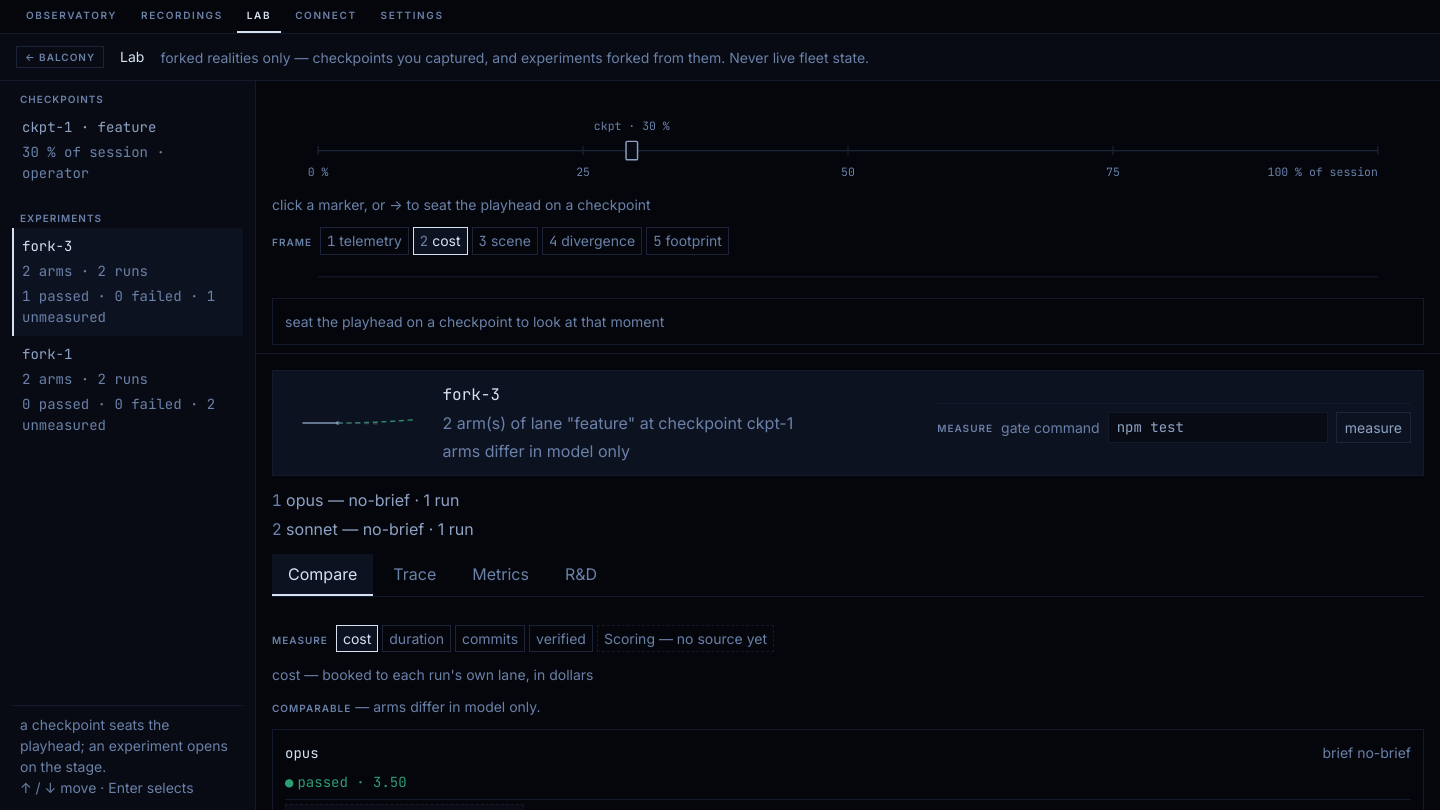
Test: the Trace control is reachable from the frame divergence position as well as the tab (prd-55 ruling 8) › opening another experiment closes the trace — a divergence figure never outlives the run it was read from
The width and height of the screenshot is (1440, 810).
Expected: the element with test id "lab-experiment-fork-3" is shown, [272,370,1424,809]
Click the tab with test id "lab-tab-Trace" at (415, 575), box [377,554,452,596]
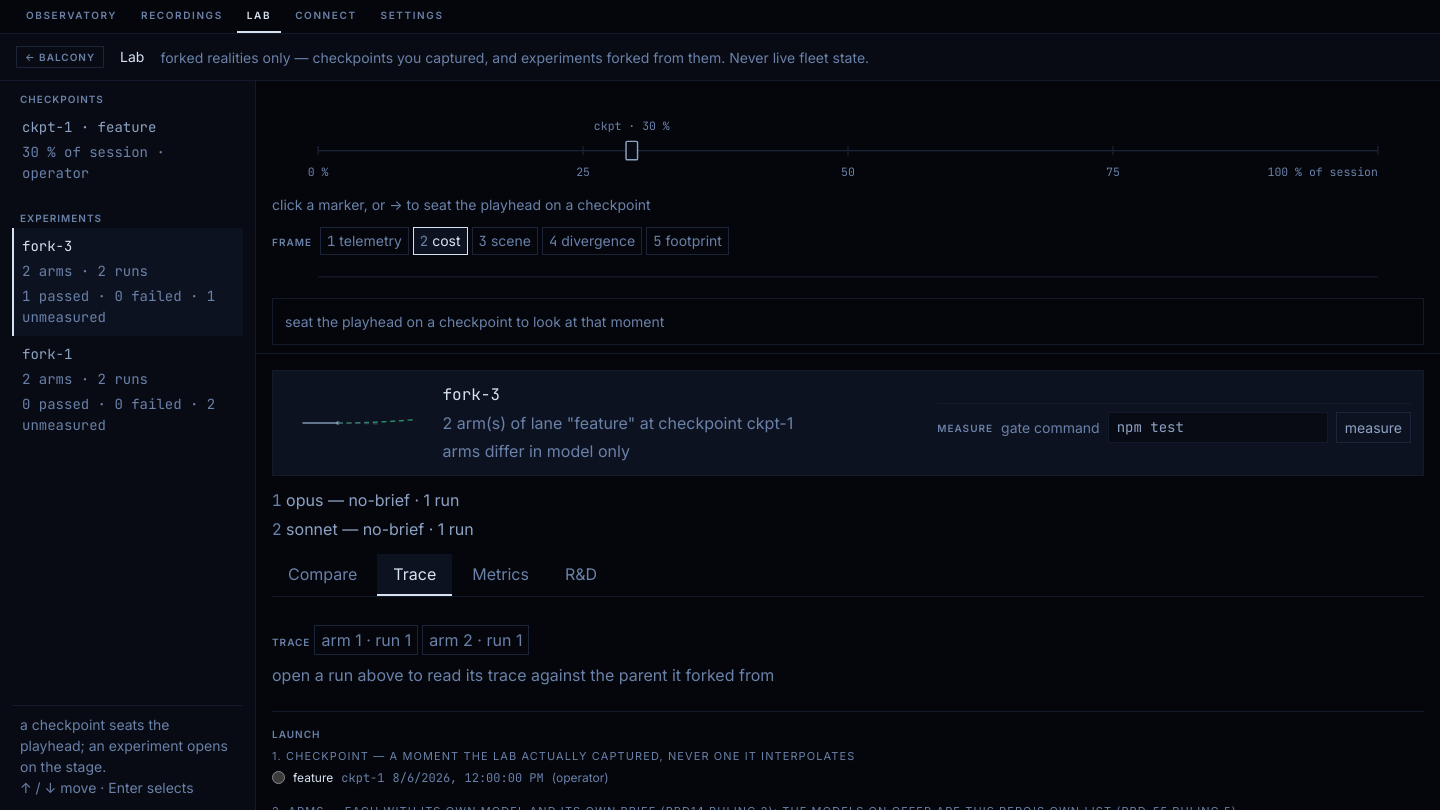
Click the button with test id "lab-trace-open-fork-3-arm-1" at (366, 640), box [314,625,418,655]
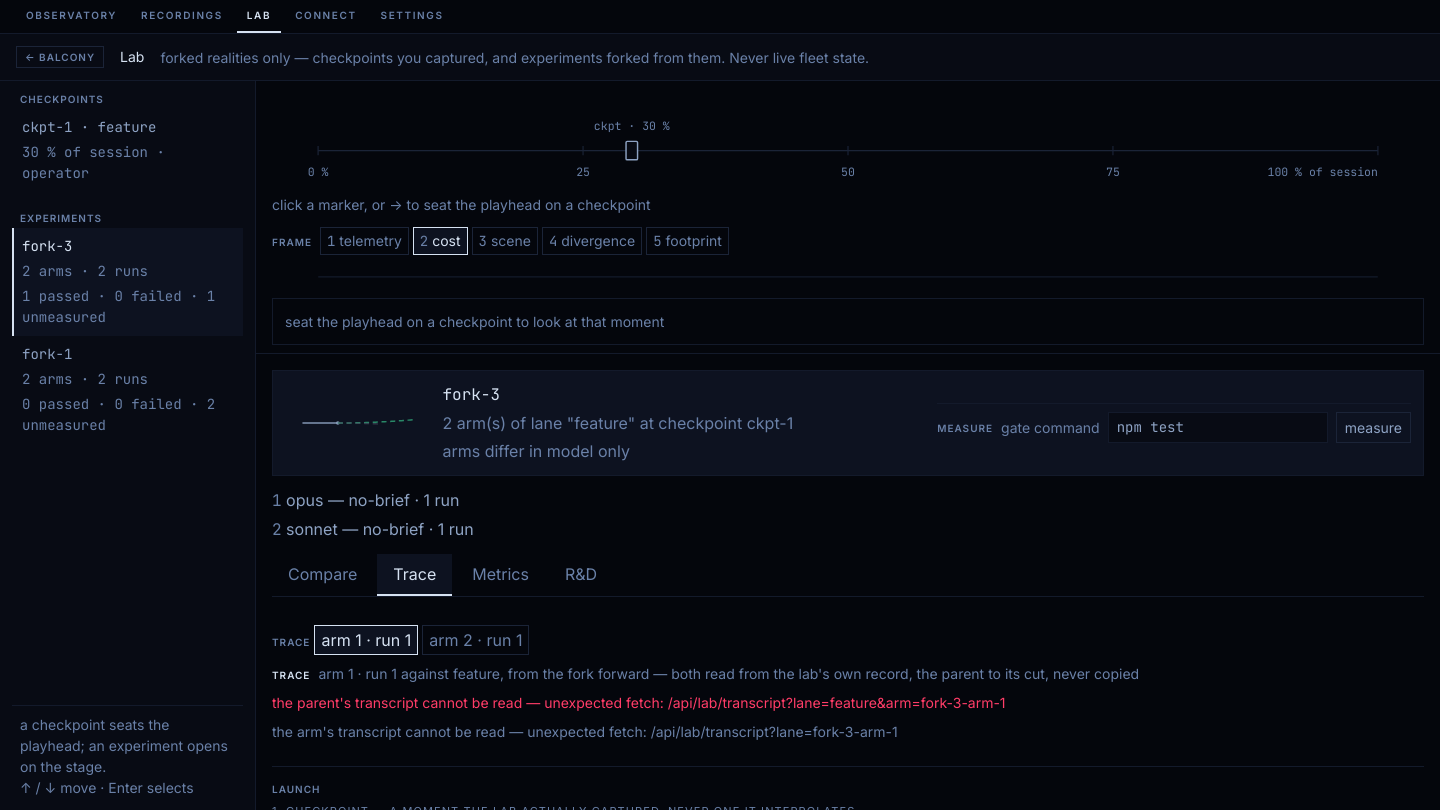
Result: the text with test id "lab-trace-none-open" is gone
Click the button with test id "lab-experiment-row-fork-1" at (128, 390), box [12,336,243,444]
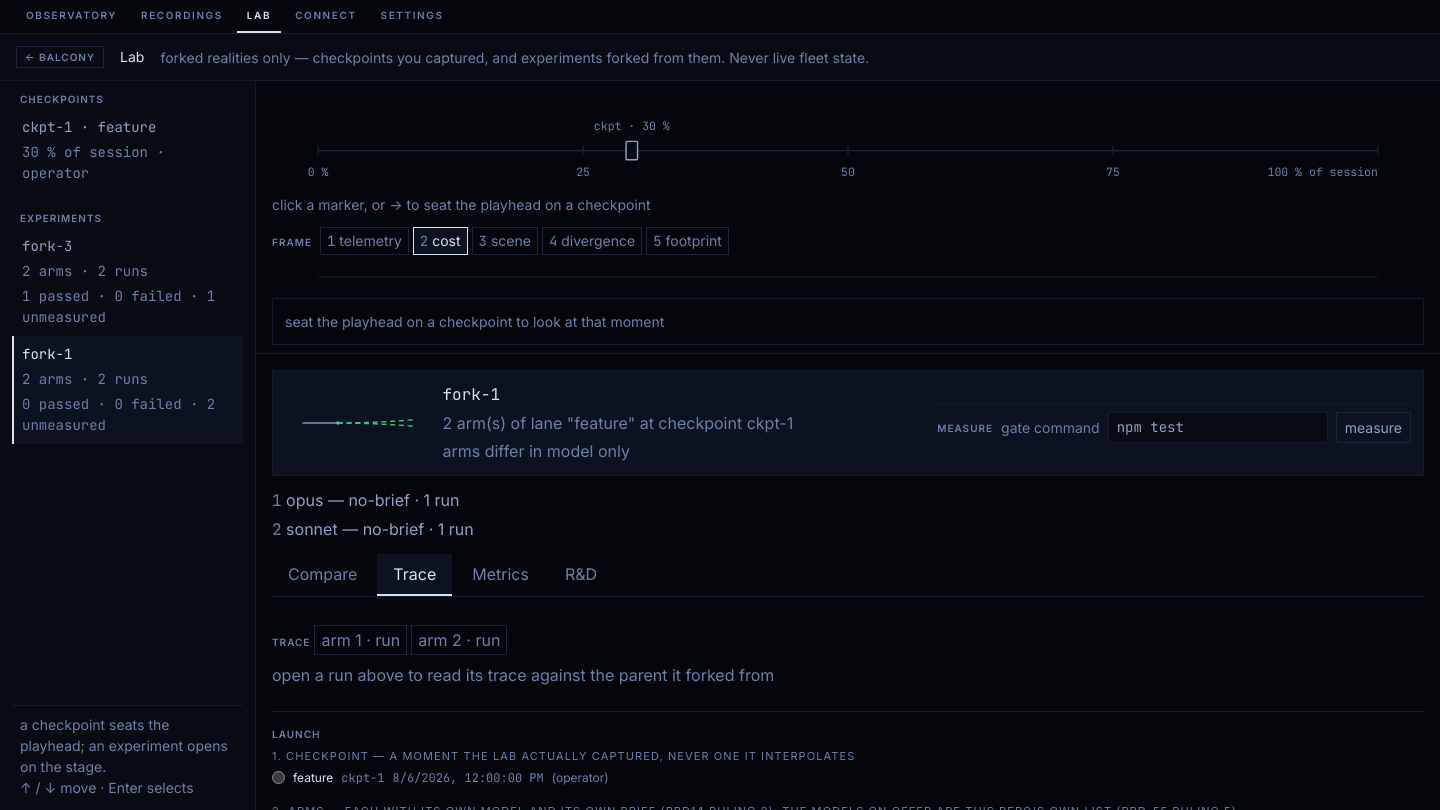
Result: the text with test id "lab-trace-none-open" is shown at [272,665,774,685]
